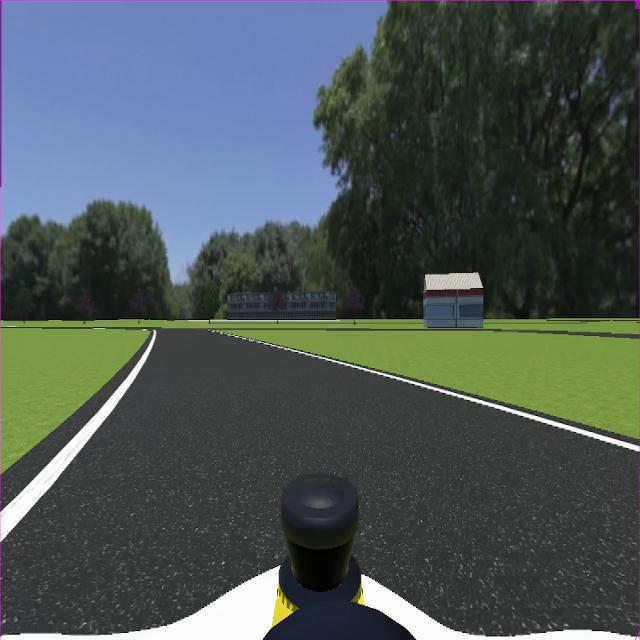road: (2, 331, 638, 635)
solid_line: (215, 332, 640, 453), (0, 333, 156, 541)
